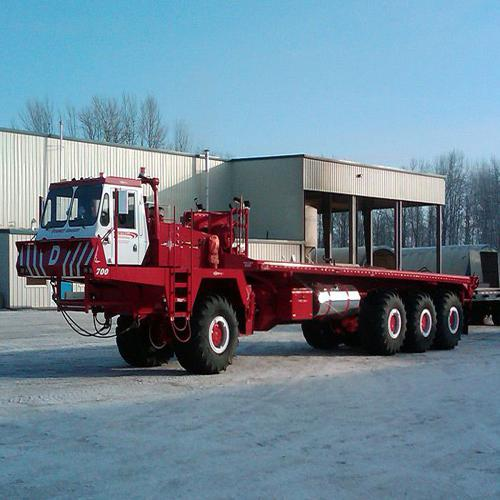con_eq: (22, 174, 471, 366)
